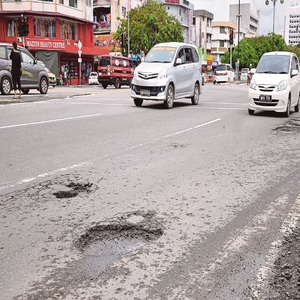pothole: (77, 223, 165, 256), (56, 182, 95, 200)
